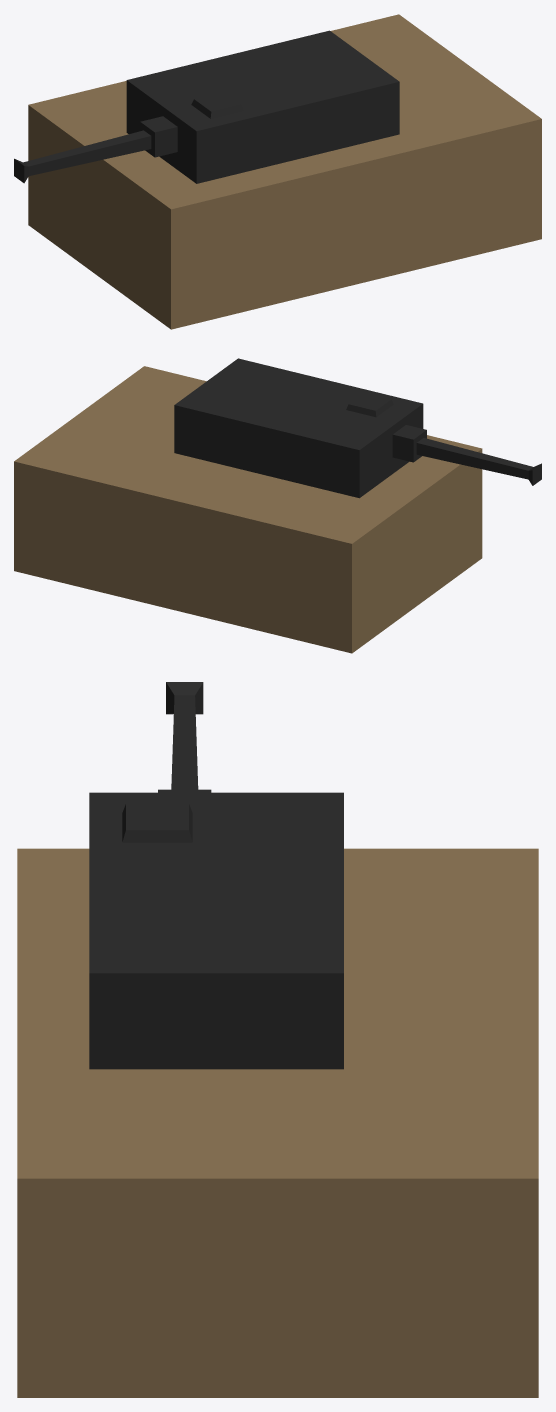
The picture shows the model from 3 angles, top to bottom: view 1: azimuth 30°, elevation 25°; view 2: azimuth 150°, elevation 25°; view 3: azimuth 270°, elevation 25°; orthographic projection. The views are drawn at different scales.
Visible parts, largest first — view 1: Cube.001, Cube.002; view 2: Cube.001, Cube.002; view 3: Cube.001, Cube.002.
Part boxes in pixels (bbox=[...]): Cube.001: bbox=[28, 14, 541, 329]; Cube.002: bbox=[14, 30, 399, 183]; Cube.001: bbox=[14, 366, 482, 653]; Cube.002: bbox=[174, 358, 541, 498]; Cube.001: bbox=[17, 848, 538, 1397]; Cube.002: bbox=[89, 682, 343, 1069].
Bounding box in the file's own units: 1.55 × 0.5546 × 0.8028.
